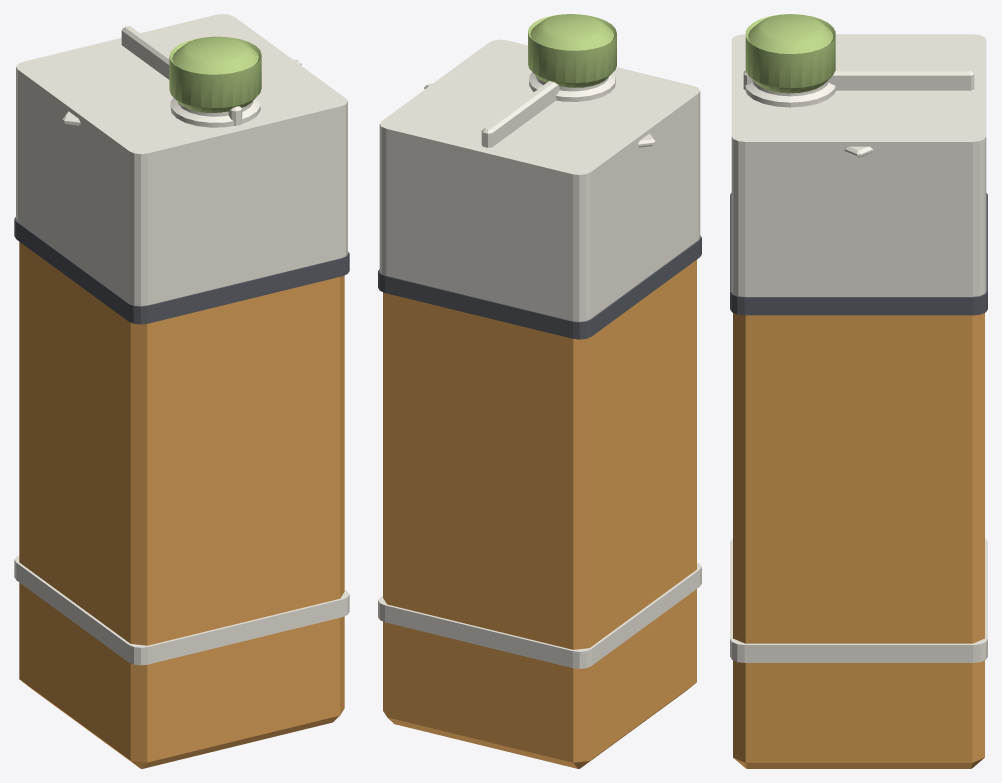
The model's file is fresh-produce-and-groceries-juice-carton-898310d8__24443.glb.
3 views of the same model, side by side, from view 1: azimuth 30°, elevation 25°; view 2: azimuth 150°, elevation 25°; view 3: azimuth 270°, elevation 25° (orthographic). The views are drawn at different scales.
Visible parts, largest first — view 1: juice-carton; view 2: juice-carton; view 3: juice-carton.
Part boxes in pixels (x1=…): juice-carton: x1=14, y1=14, x2=349, y2=768; juice-carton: x1=378, y1=14, x2=701, y2=768; juice-carton: x1=730, y1=14, x2=987, y2=768.
Size of the model in its own units: 0.0776 by 0.213 by 0.0716.
